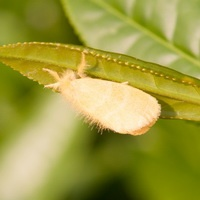insect: (0, 42, 199, 134), (45, 70, 160, 134)
